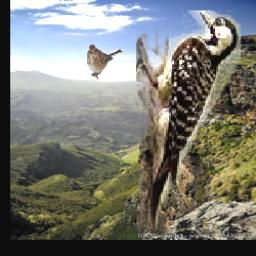Sparrow: (87, 43, 124, 82)
Woodpecker: (136, 10, 241, 230)
